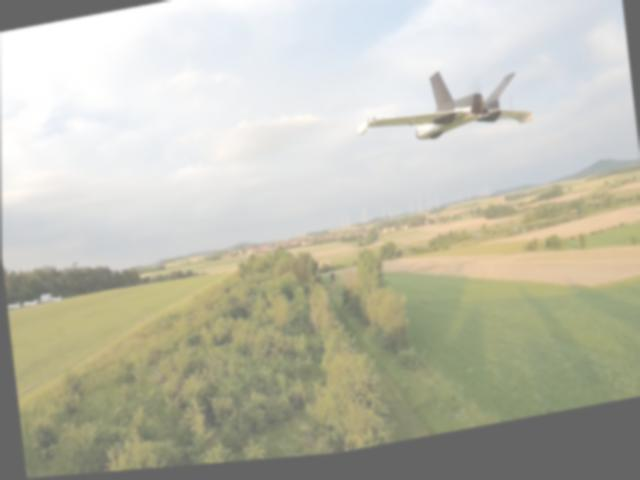plane: (350, 66, 535, 164)
